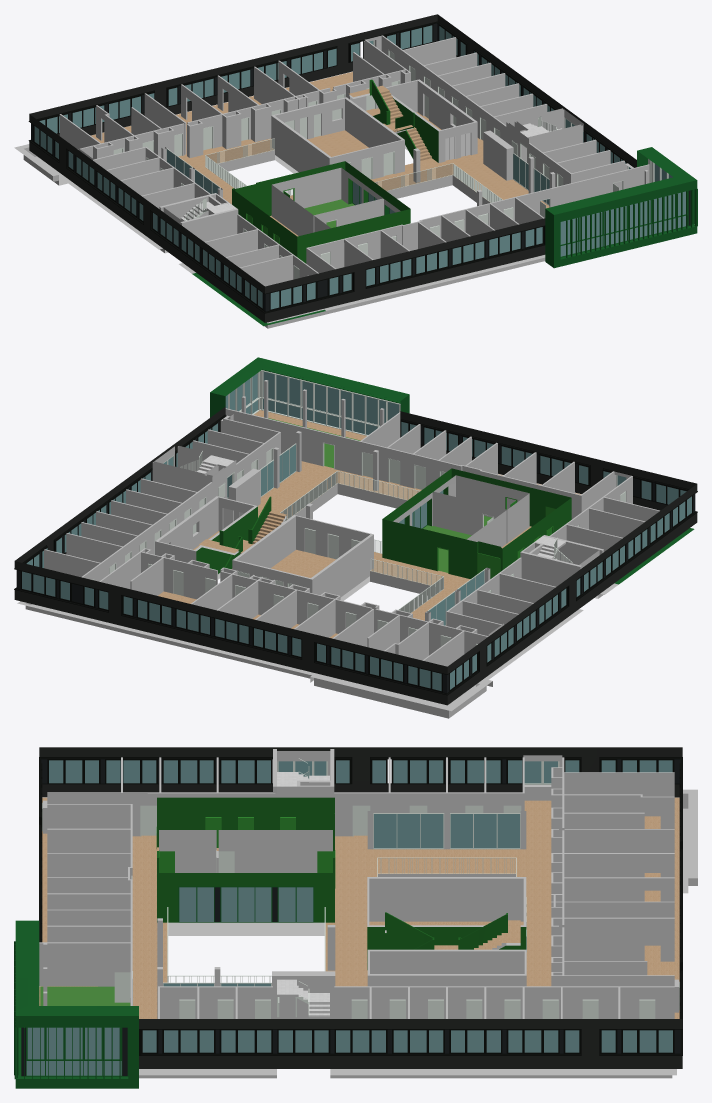
3 views of the same model, one above another, from view 1: azimuth 30°, elevation 25°; view 2: azimuth 150°, elevation 25°; view 3: azimuth 270°, elevation 25° (orthographic). The views are drawn at different scales.
Visible parts, largest first — view 1: LEVEL4_WALL_01, LEVEL4_FACADE_00, LEVEL4_GLASS_00, LEVEL4_FLOOR_CEILING_00, LEVEL4_FACADE_43, LEVEL4_WALL_02, LEVEL4_FACADE_45, LEVEL4_STAIRS_00, LEVEL4_RAILING_01, LEVEL4_RAILING_00, LEVEL4_WALL_00; view 2: LEVEL4_WALL_01, LEVEL4_FACADE_00, LEVEL4_GLASS_00, LEVEL4_FLOOR_CEILING_00, LEVEL4_WALL_02, LEVEL4_FACADE_43, LEVEL4_FACADE_45, LEVEL4_FACADE_44, LEVEL4_RAILING_01, LEVEL4_STAIRS_00, LEVEL4_WALL_00, LEVEL4_RAILING_00; view 3: LEVEL4_WALL_01, LEVEL4_GLASS_00, LEVEL4_FLOOR_CEILING_00, LEVEL4_FACADE_00, LEVEL4_WALL_02, LEVEL4_FACADE_43, LEVEL4_FACADE_45, LEVEL4_STAIRS_00, LEVEL4_FRAME_03, LEVEL4_FRAME_00, LEVEL4_RAILING_00, LEVEL4_WALL_00 (+5 smaller).
Part boxes in pixels (<box>): LEVEL4_WALL_01: <box>59,35,649,286</box>; LEVEL4_FACADE_00: <box>29,14,636,322</box>; LEVEL4_GLASS_00: <box>34,25,685,309</box>; LEVEL4_FLOOR_CEILING_00: <box>14,72,549,328</box>; LEVEL4_FACADE_43: <box>28,21,690,313</box>; LEVEL4_WALL_02: <box>161,147,410,263</box>; LEVEL4_FACADE_45: <box>545,147,697,268</box>; LEVEL4_STAIRS_00: <box>349,79,435,169</box>; LEVEL4_RAILING_01: <box>375,163,502,202</box>; LEVEL4_RAILING_00: <box>205,138,293,195</box>; LEVEL4_WALL_00: <box>477,156,648,206</box>; LEVEL4_WALL_01: <box>44,408,659,666</box>; LEVEL4_FACADE_00: <box>14,407,697,705</box>; LEVEL4_GLASS_00: <box>22,371,691,690</box>; LEVEL4_FLOOR_CEILING_00: <box>17,410,694,718</box>; LEVEL4_WALL_02: <box>382,468,571,621</box>; LEVEL4_FACADE_43: <box>14,369,697,695</box>; LEVEL4_FACADE_45: <box>210,357,409,417</box>; LEVEL4_FACADE_44: <box>228,370,400,435</box>; LEVEL4_RAILING_01: <box>280,471,420,553</box>; LEVEL4_STAIRS_00: <box>199,496,286,569</box>; LEVEL4_WALL_00: <box>241,380,384,490</box>; LEVEL4_RAILING_00: <box>370,558,443,612</box>; LEVEL4_WALL_01: <box>39,749,679,1018</box>; LEVEL4_GLASS_00: <box>26,760,672,1075</box>; LEVEL4_FLOOR_CEILING_00: <box>39,789,697,1078</box>; LEVEL4_FACADE_00: <box>39,747,682,1068</box>; LEVEL4_WALL_02: <box>157,797,526,922</box>; LEVEL4_FACADE_43: <box>21,757,682,1076</box>; LEVEL4_FACADE_45: <box>15,920,138,1088</box>; LEVEL4_STAIRS_00: <box>385,912,520,949</box>; LEVEL4_FRAME_03: <box>178,886,313,922</box>; LEVEL4_FRAME_00: <box>163,813,520,986</box>; LEVEL4_RAILING_00: <box>377,857,516,876</box>; LEVEL4_WALL_00: <box>43,918,220,1018</box>.
Size of the model in its own units: 42.85 by 5.65 by 42.92.
